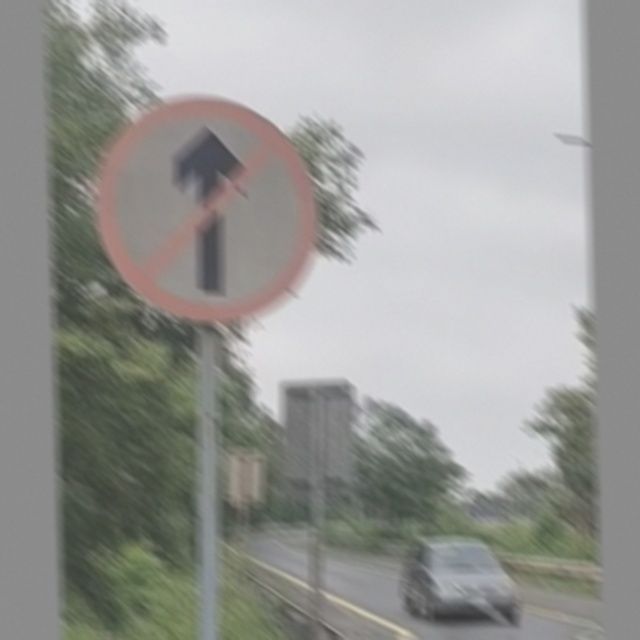No_Entry: (96, 95, 323, 326)
